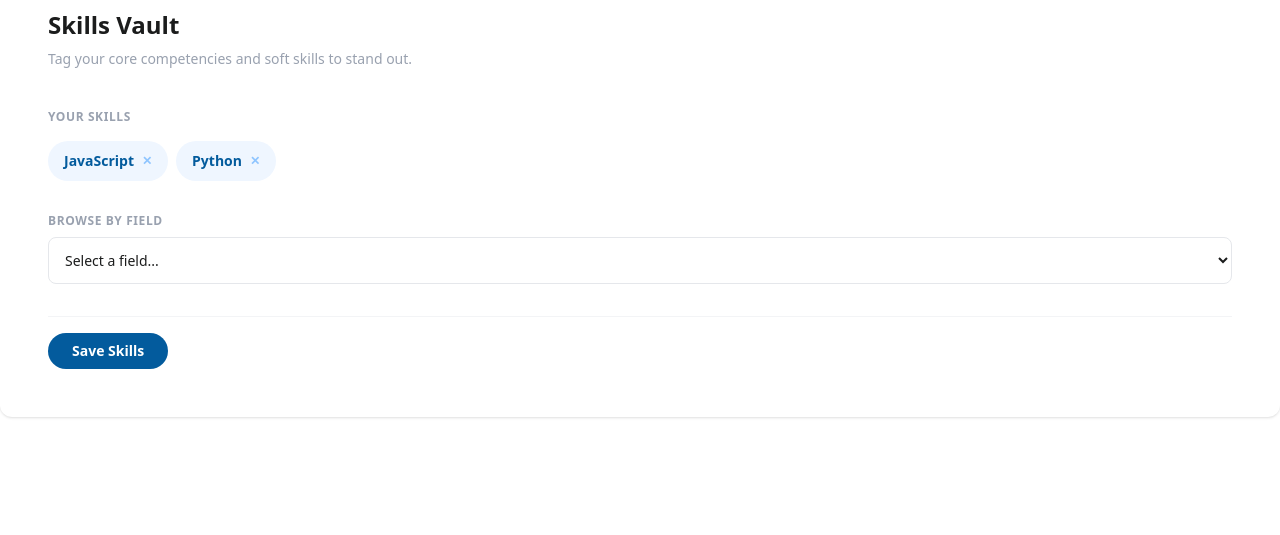
Scenario: SkillsSection › does not add duplicate skills
Expected: the text "JavaScript" is shown, top-left (64, 151), bottom-right (134, 171)
Select "Services" in the dropdown: [640, 260] box top-left (48, 237), bottom-right (1232, 284)
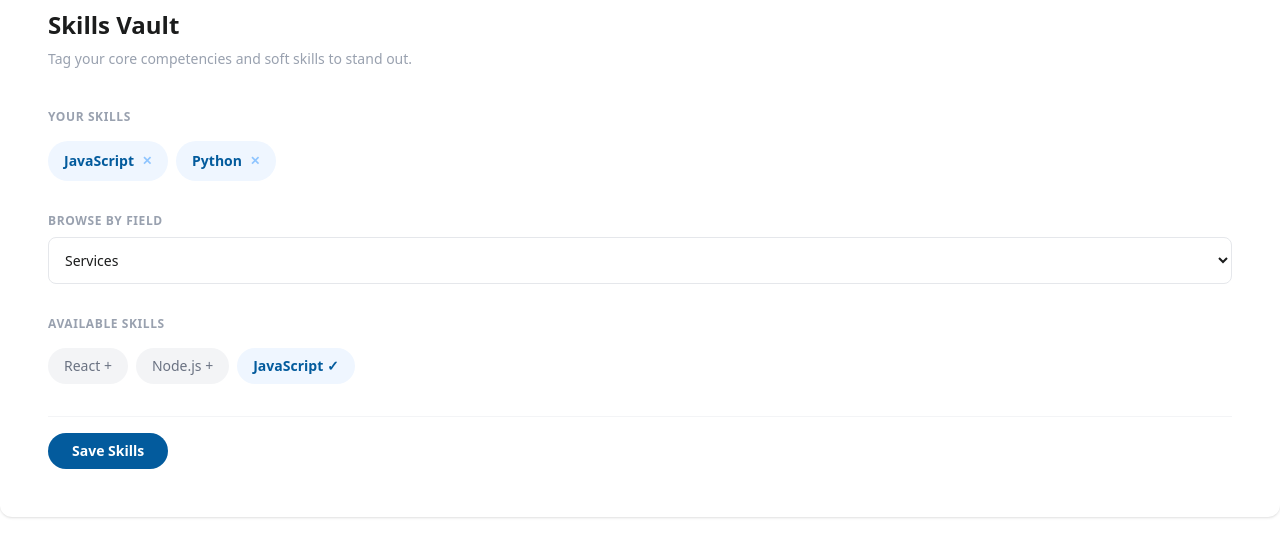
Now the button "JavaScript ✓" is disabled, box top-left (237, 348), bottom-right (355, 384)
